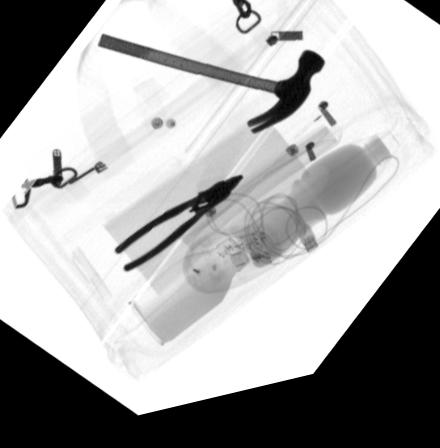Hammer: (98, 39, 327, 146)
Pliers: (114, 186, 244, 277)
